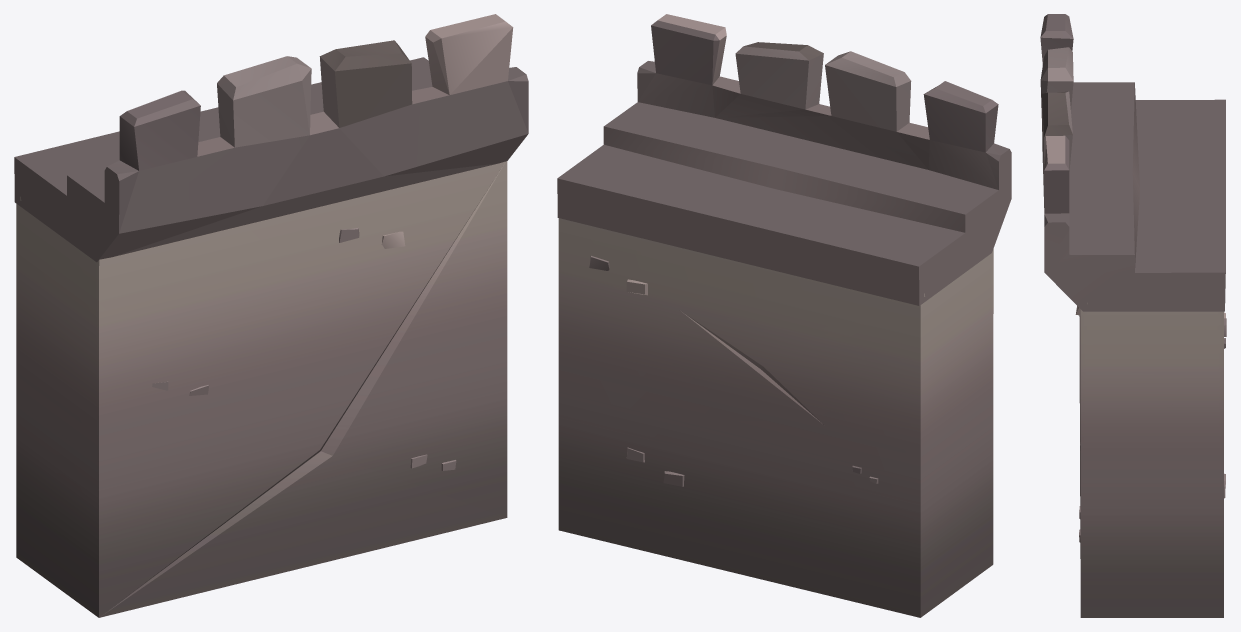
The model's file is Castle_Wall.fbx.
3 views of the same model, side by side, from view 1: azimuth 30°, elevation 25°; view 2: azimuth 150°, elevation 25°; view 3: azimuth 270°, elevation 25° (orthographic). The views are drawn at different scales.
Visible parts, largest first — view 1: Castle_Wall; view 2: Castle_Wall; view 3: Castle_Wall.
Part boxes in pixels (x1=…): Castle_Wall: x1=14, y1=14, x2=528, y2=617; Castle_Wall: x1=557, y1=14, x2=1011, y2=617; Castle_Wall: x1=1040, y1=14, x2=1226, y2=617.
Bounding box in the file's own units: 1.84 × 2.25 × 0.836.
